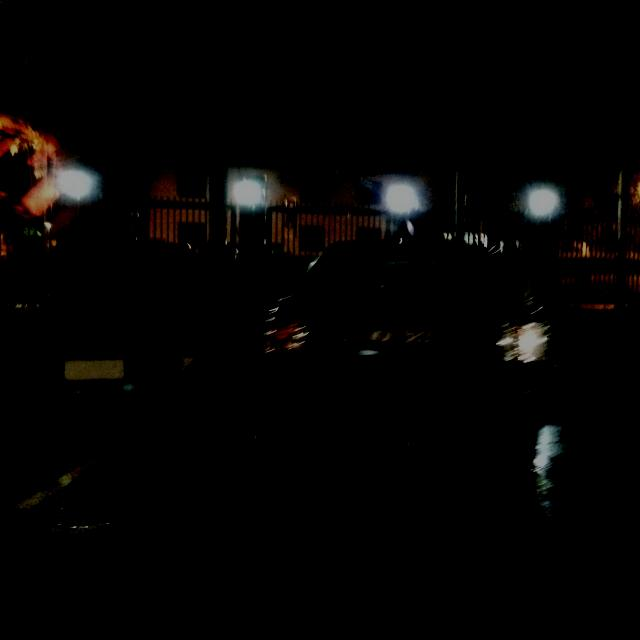Car: (263, 240, 553, 473)
